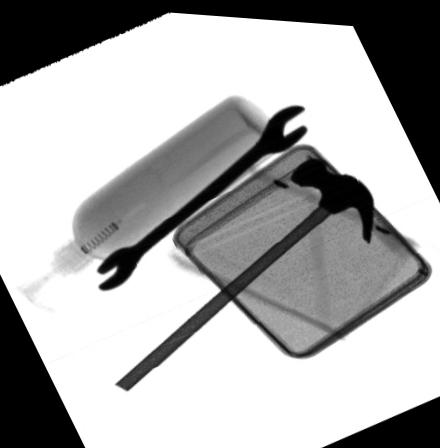Hammer: (112, 152, 372, 392)
Wrench: (96, 99, 307, 291)
